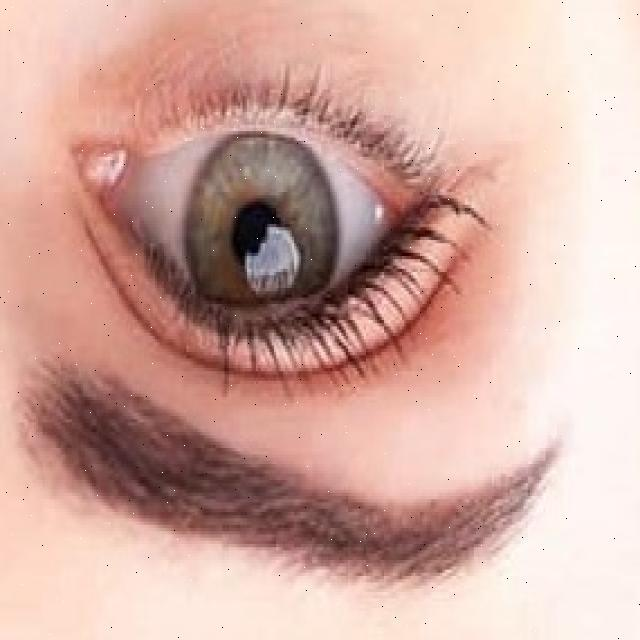Normal: (181, 133, 337, 337)
